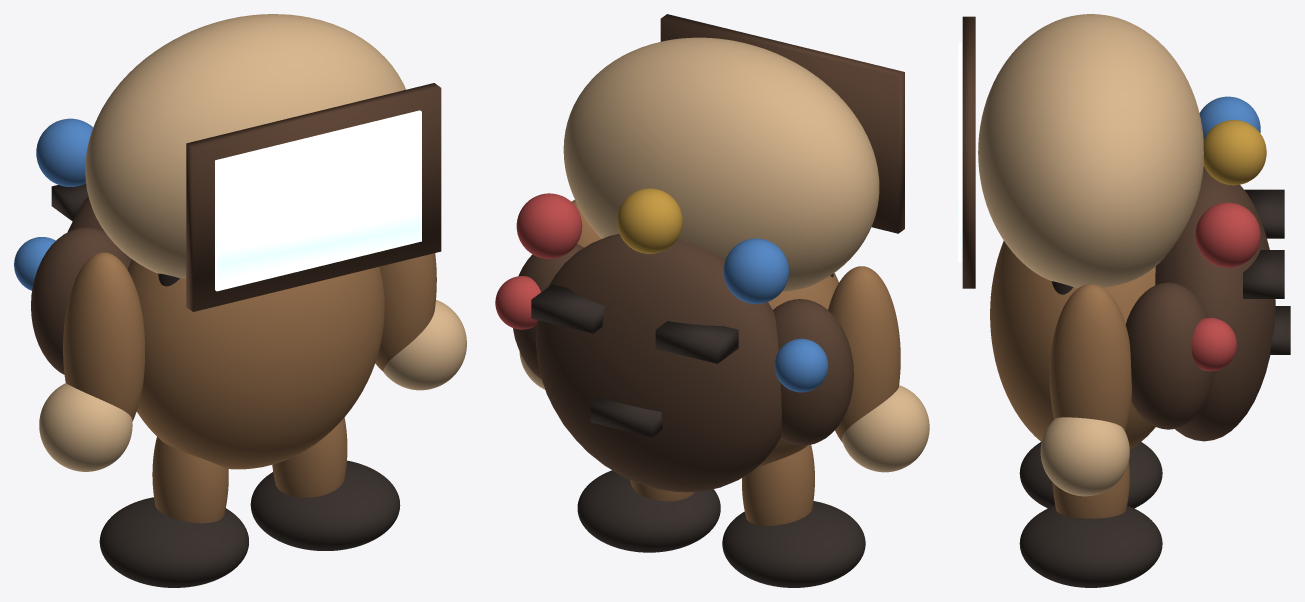
Rendered from hoarder.glb.
The picture shows the model from 3 angles, left to right: view 1: azimuth 30°, elevation 25°; view 2: azimuth 150°, elevation 25°; view 3: azimuth 270°, elevation 25°; orthographic projection. The views are drawn at different scales.
Parts seen in each view (by area): view 1: head, body, face_screen, face_frame, arm_L, foot_L, foot_R, hand_L, bag_side_L, leg_L, arm_R, hand_R (+5 smaller); view 2: head, bag_main, face_frame, foot_L, foot_R, arm_L, bag_side_L, hand_L, leg_L, item_red_0, item_blue_0, item_gold_0 (+8 smaller); view 3: head, bag_main, body, arm_R, bag_side_R, foot_R, hand_R, face_frame, item_red_0, item_gold_0, foot_L, leg_R (+6 smaller).
Part boxes in pixels (x1,y1,x2,y2): head: (85,14,405,278); body: (127,259,384,469); face_screen: (215,110,421,291); face_frame: (186,83,441,311); arm_L: (63,252,144,421); foot_L: (99,497,248,587); foot_R: (250,460,400,550); hand_L: (39,383,132,471); bag_side_L: (31,227,130,374); leg_L: (152,437,228,523); arm_R: (375,253,436,370); hand_R: (383,300,466,390); head: (563,37,879,291); bag_main: (535,233,781,492); face_frame: (660,14,904,233); foot_L: (722,501,865,587); foot_R: (577,470,720,552); arm_L: (828,266,900,442); bag_side_L: (773,299,853,445); hand_L: (842,385,929,472); leg_L: (742,444,814,525); item_red_0: (516,193,582,258); item_blue_0: (723,238,788,303); item_gold_0: (617,188,682,253); head: (978,14,1203,287); bag_main: (1155,166,1275,441); body: (990,240,1155,449); arm_R: (1049,284,1131,430); bag_side_R: (1125,282,1214,429); foot_R: (1019,505,1162,587); hand_R: (1040,417,1129,496); face_frame: (962,16,975,288); item_red_0: (1195,202,1260,267); item_gold_0: (1203,120,1266,185); foot_L: (1019,442,1162,508); leg_R: (1052,461,1129,518).
Size of the model in its own units: 0.8847 by 1.08 by 0.6411.
